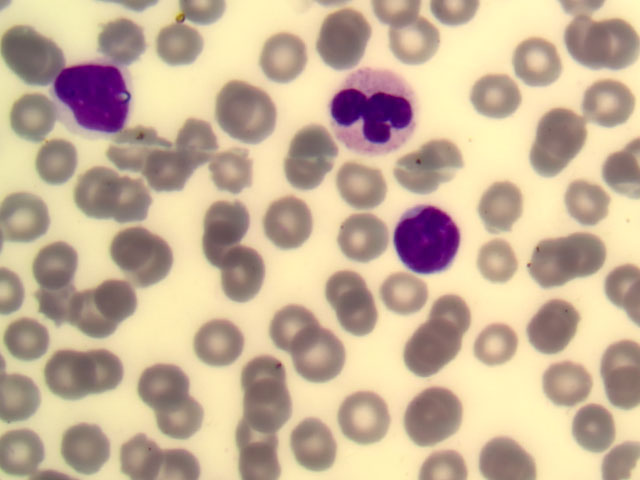RBC: (335, 62, 418, 160), (393, 200, 468, 281), (58, 421, 114, 480), (122, 421, 178, 480), (217, 421, 273, 480), (281, 421, 337, 480), (481, 421, 537, 480), (2, 24, 58, 82), (27, 134, 83, 192), (2, 175, 58, 233), (71, 170, 127, 228), (127, 181, 183, 239), (134, 144, 190, 202), (107, 113, 163, 171), (171, 103, 227, 161), (117, 231, 173, 289), (97, 277, 153, 335), (63, 288, 119, 346), (43, 267, 99, 325), (32, 238, 88, 296), (5, 308, 61, 366), (33, 341, 89, 399), (132, 354, 188, 412), (153, 392, 209, 450), (191, 186, 247, 244), (205, 253, 261, 311), (193, 310, 249, 368), (239, 377, 295, 435), (294, 338, 350, 396), (83, 351, 139, 409), (324, 385, 380, 443), (406, 384, 462, 442), (392, 331, 448, 389), (422, 297, 478, 355), (427, 281, 483, 339), (381, 269, 437, 327), (325, 292, 381, 350), (320, 264, 376, 322), (267, 294, 323, 352), (340, 207, 396, 265), (327, 160, 383, 218), (280, 154, 336, 212), (281, 117, 337, 175), (238, 103, 294, 161), (216, 76, 272, 134), (253, 31, 309, 89), (316, 8, 372, 66), (377, 13, 433, 71), (462, 66, 518, 124), (515, 33, 571, 91), (554, 20, 610, 78), (573, 9, 629, 67), (584, 76, 640, 134), (544, 104, 600, 162), (527, 131, 583, 189), (473, 176, 529, 234), (421, 134, 477, 192), (397, 152, 453, 210), (475, 241, 531, 299), (525, 234, 581, 292), (578, 223, 634, 281), (531, 293, 587, 351), (471, 313, 527, 371), (545, 351, 601, 409), (566, 396, 622, 454), (584, 355, 640, 413), (1, 82, 56, 140), (269, 196, 317, 256)
WBC: (54, 55, 150, 140)
